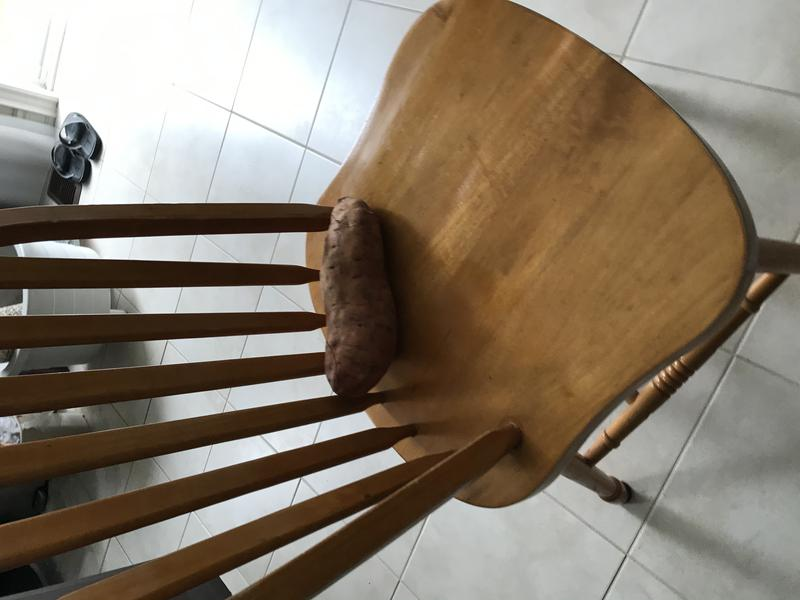sweet_potato: (312, 190, 409, 413)
